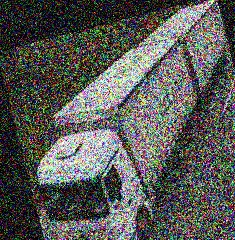truck: (4, 0, 235, 240)
